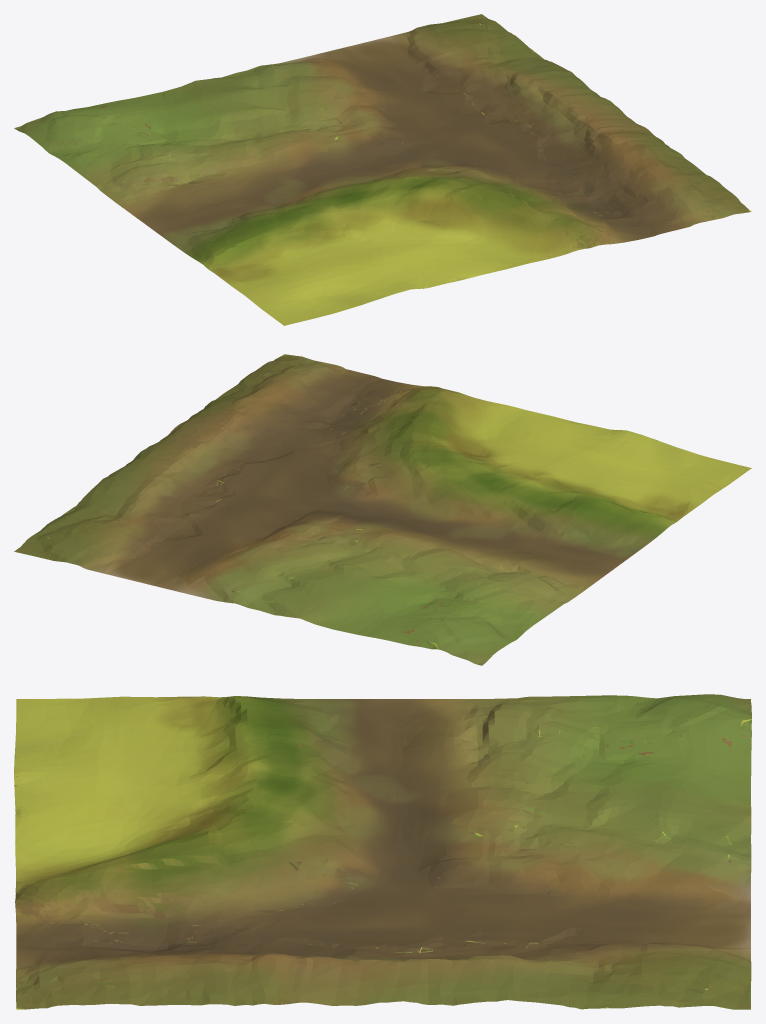
Rendered from land2.fbx.
3 renders of one model, top to bottom at view 1: azimuth 30°, elevation 25°; view 2: azimuth 150°, elevation 25°; view 3: azimuth 270°, elevation 25°, orthographic. The views are drawn at different scales.
Visible parts, largest first — view 1: Plane; view 2: Plane; view 3: Plane.
Boxes of the visible parts, box(x1,y1,x2,y2) form: Plane: box(14, 14, 751, 325); Plane: box(14, 354, 751, 665); Plane: box(14, 694, 751, 1009).
Size of the model in its own units: 7741 by 447 by 7746.
1 material, 1 textured.
